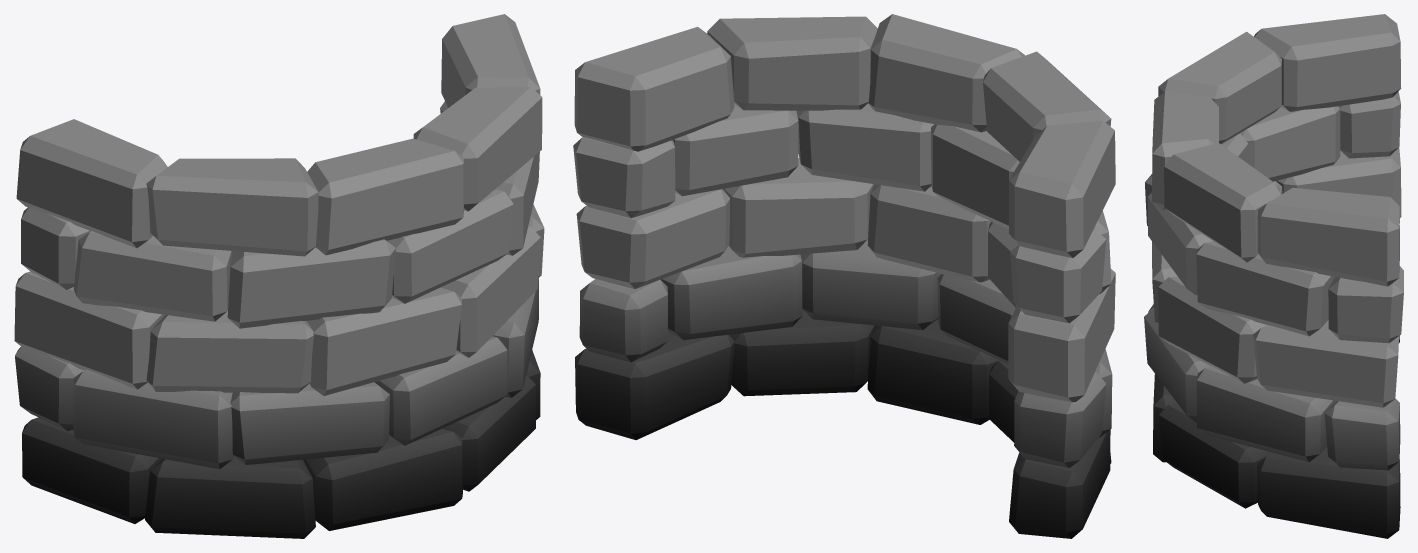
Rendered from BrickWall2x1_01_T180_Solo.fbx.
3 views of the same model, side by side, from view 1: azimuth 30°, elevation 25°; view 2: azimuth 150°, elevation 25°; view 3: azimuth 270°, elevation 25° (orthographic). The views are drawn at different scales.
Parts seen in each view (by area): view 1: BrickWall2x1_01_T180_Solo; view 2: BrickWall2x1_01_T180_Solo; view 3: BrickWall2x1_01_T180_Solo.
Part boxes in pixels (x1,y1,x2,y2): BrickWall2x1_01_T180_Solo: (14,14,544,538); BrickWall2x1_01_T180_Solo: (573,14,1115,538); BrickWall2x1_01_T180_Solo: (1144,14,1403,538).
Size of the model in its own units: 149 by 101 by 74.38.
